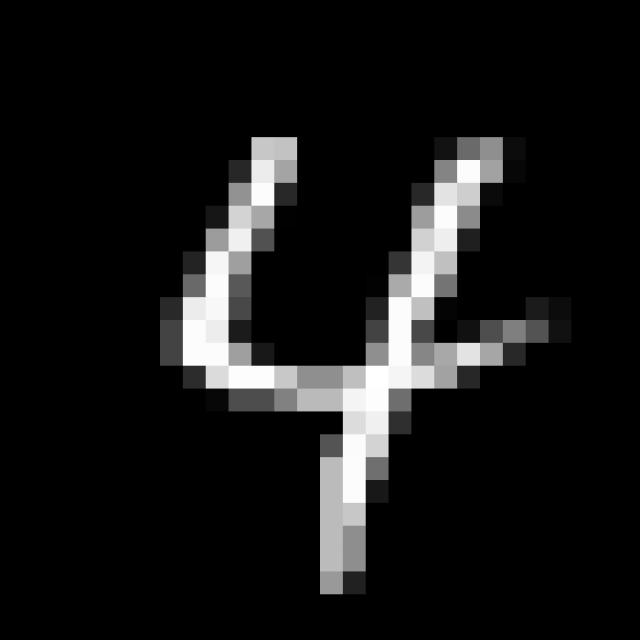four -4-: (144, 109, 575, 612)
